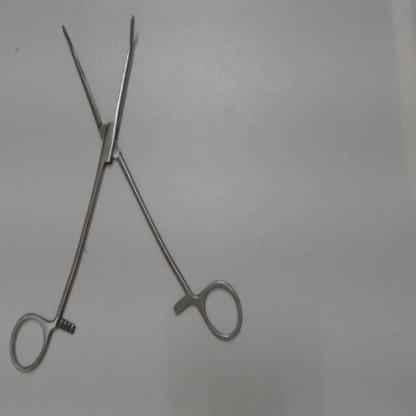Lahey Forceps: (6, 9, 249, 377)
